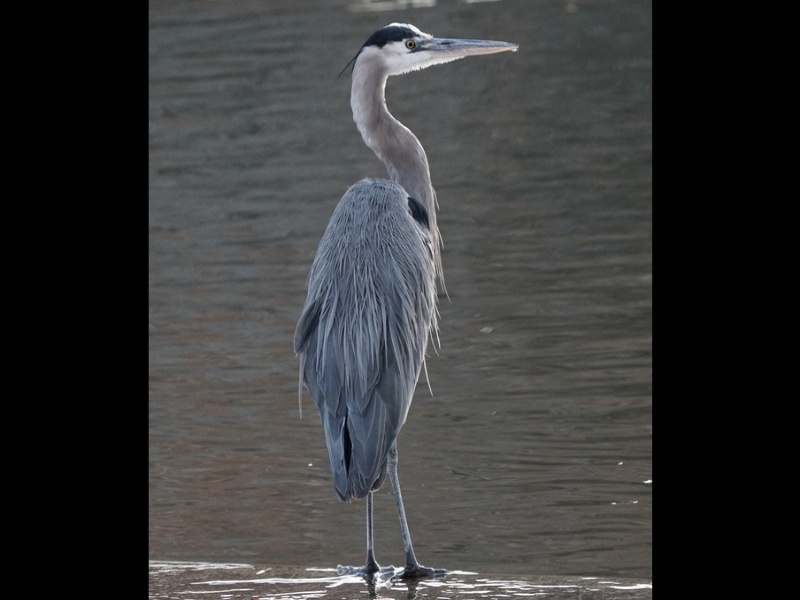heron: (288, 19, 516, 585)
